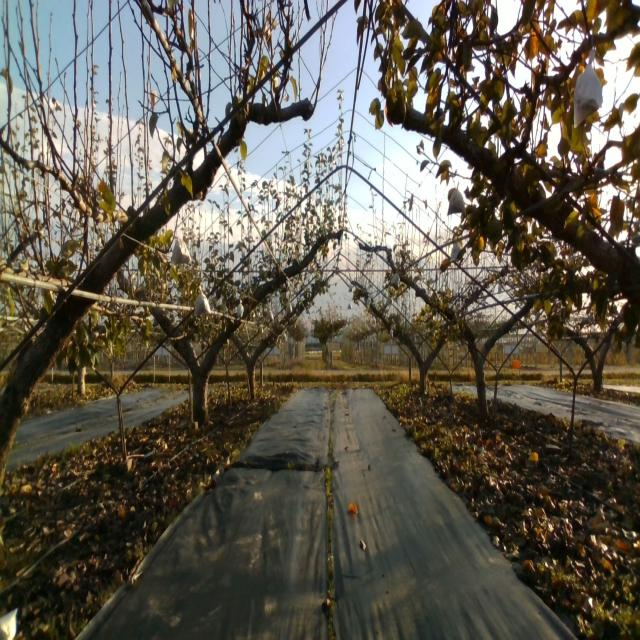pearbags: (572, 49, 604, 129), (446, 182, 467, 216), (172, 235, 194, 265), (194, 286, 211, 316), (450, 243, 463, 263)
